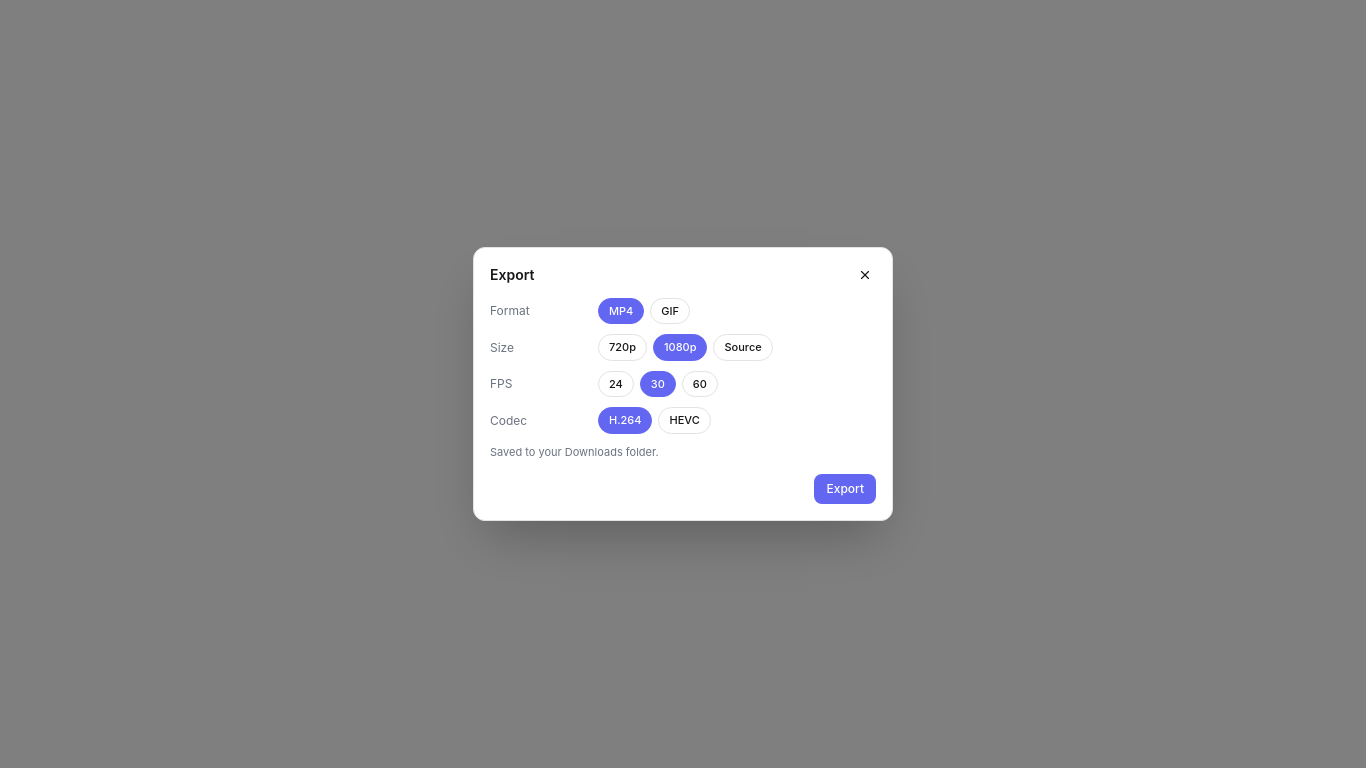
Test: ExportDialog › success shows where it went; toast + Finder come from Rust, never twice
Click the button "Export". click: point(845, 489)
box: [814, 474, 876, 504]
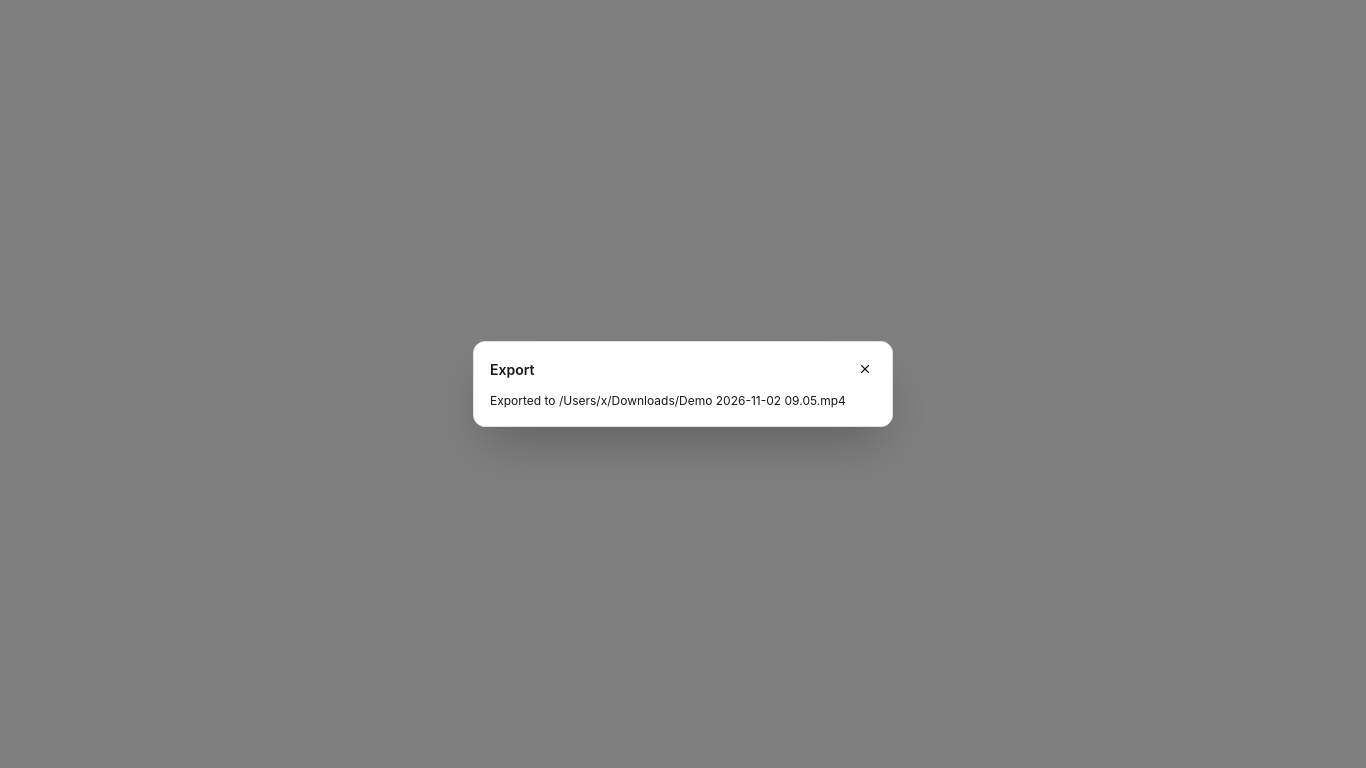
Expected: the text "Exported to /Users/x/Downloads/Demo 2026-11-02 09.05.mp4" is shown, [490, 392, 876, 410]
